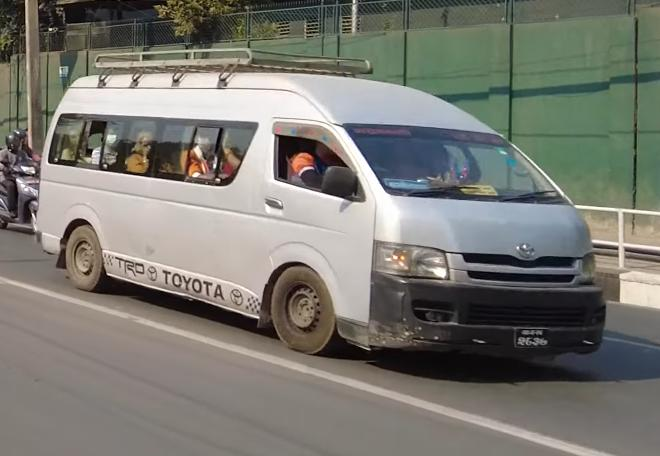micro_bus: (29, 42, 617, 362)
scooter: (0, 158, 45, 237)
